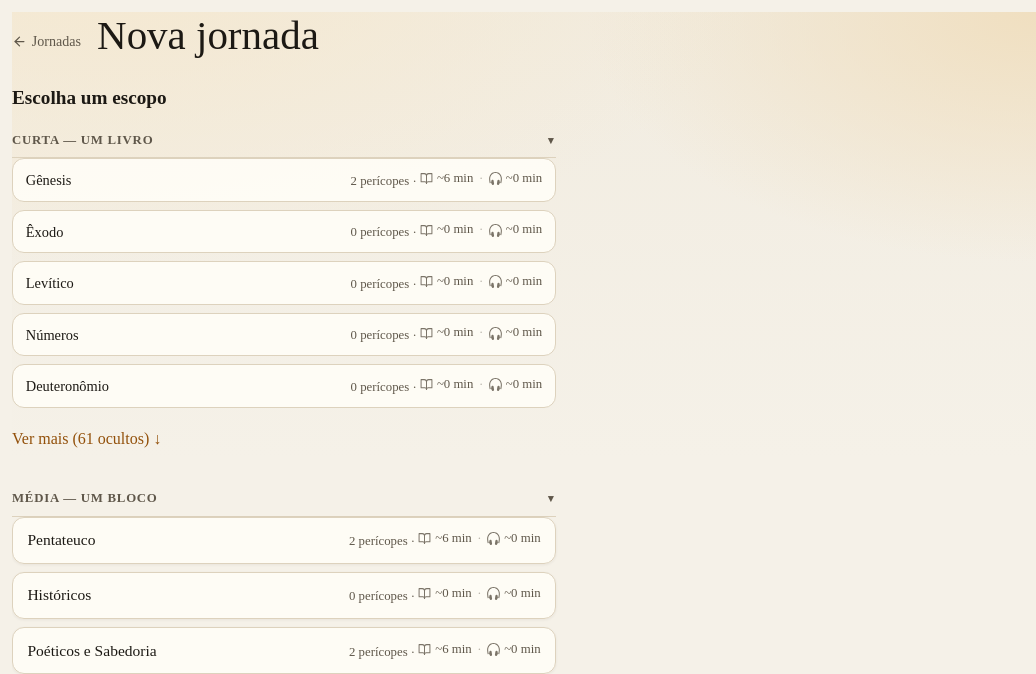
it: NovaJornada — "Ver mais" › seções com mais de 5 itens exibem "Ver mais" e expandem ao clicar
expect the element with class "jornada-grupo--curta" is shown: met, box [12, 123, 556, 461]
Note: Clica no "Ver mais"
Click the button with class "jornada-ver-mais" at (87, 439), box [12, 417, 161, 461]
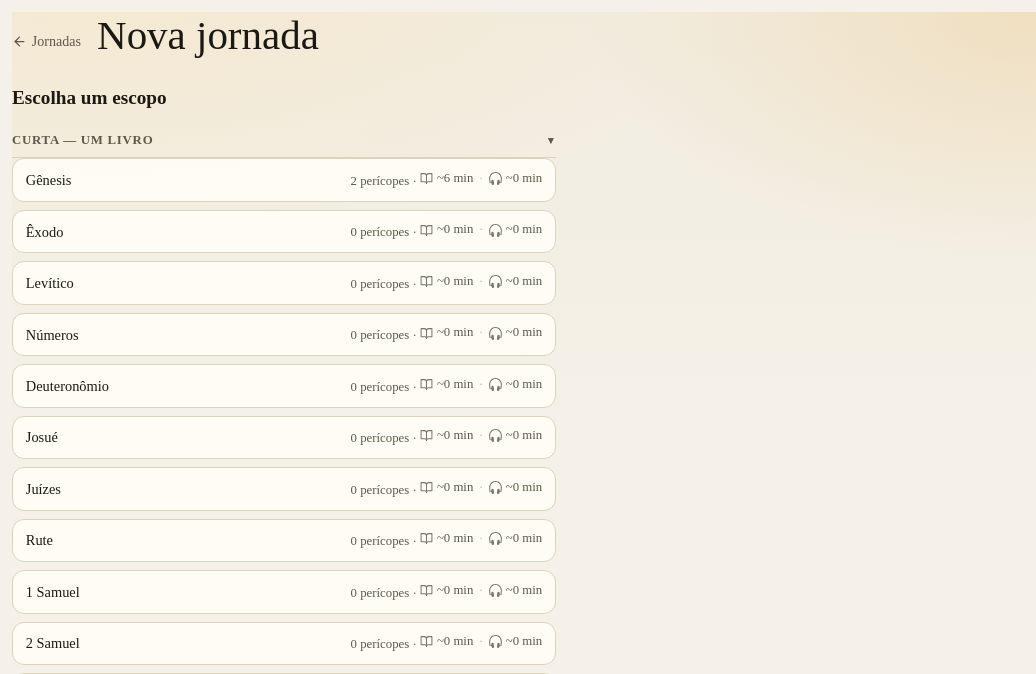
expect the button "Ver mais (61 ocultos) ↓" is gone: met
